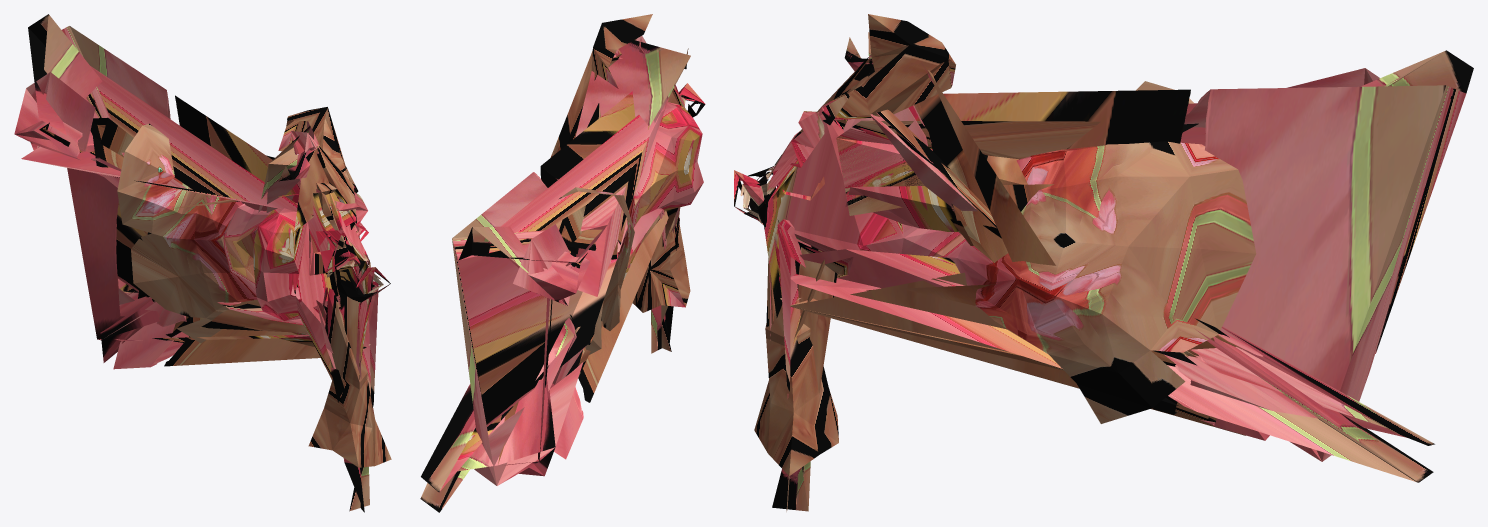
File: a_hj_f_clo_00.obj
The picture shows the model from 3 angles, left to right: view 1: azimuth 30°, elevation 25°; view 2: azimuth 150°, elevation 25°; view 3: azimuth 270°, elevation 25°; orthographic projection. The views are drawn at different scales.
Size of the model in its own units: 10.45 by 20.68 by 28.74.
